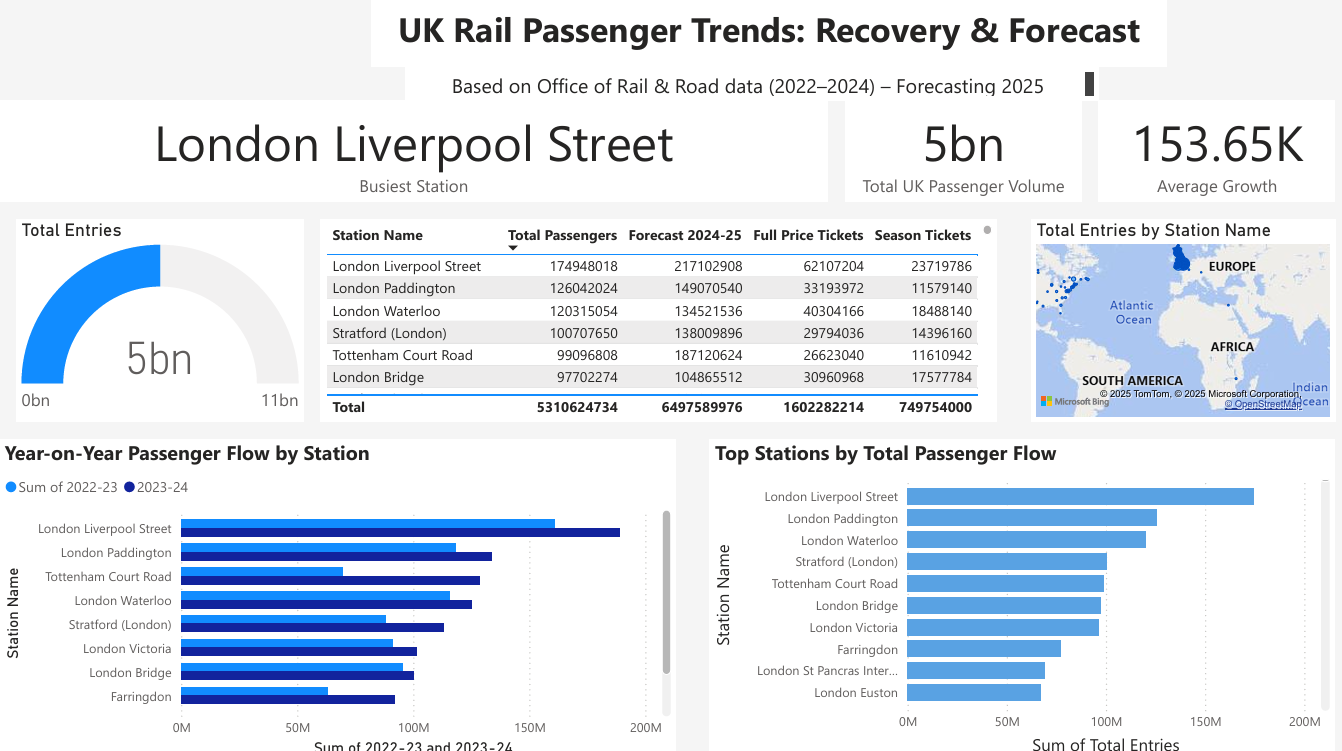

This screenshot's page, from the dashboard's own definition file:
{"tool":"powerbi","page":{"name":"Page 1","canvas":[1280,720],"ordinal":0},"visuals":[{"type":"clusteredBarChart","title":"Top Stations by Total Passenger Flow","fields":{"Category":["cleaned_passenger_flow.station_name"],"Y":["Sum(cleaned_passenger_flow.total_entries_exits)"]},"box":[672,416,592,304],"z":0},{"type":"clusteredBarChart","title":"Year-on-Year Passenger Flow by Station","fields":{"Category":["cleaned_passenger_flow.station_name"],"Y":["Sum(cleaned_passenger_flow.2022-23)","Sum(cleaned_passenger_flow.2023-24)"]},"box":[0,416,640,304],"z":1000},{"type":"textbox","box":[352,0,752,64],"z":2000},{"type":"card","fields":{"Values":["cleaned_passenger_flow.Busiest Station"]},"box":[0,96,784,96],"z":4000},{"type":"map","fields":{"Category":["cleaned_passenger_flow.station_name"],"Size":["Sum(cleaned_passenger_flow.total_entries_exits)"]},"box":[976,208,288,192],"z":5000},{"type":"tableEx","fields":{"Values":["cleaned_passenger_flow.station_name","Sum(cleaned_passenger_flow.total_entries_exits)","Sum(cleaned_passenger_flow.forecast_2024-25)","Sum(cleaned_passenger_flow.full_price_tickets)","Sum(cleaned_passenger_flow.season_tickets)"]},"box":[304,208,640,192],"z":6000},{"type":"gauge","fields":{"Y":["Sum(cleaned_passenger_flow.total_entries_exits)"]},"box":[16,208,272,192],"z":7000},{"type":"card","fields":{"Values":["Avg(cleaned_passenger_flow.growth_absolute)"]},"box":[1040,96,224,96],"z":8000},{"type":"textbox","box":[384,64,656,32],"z":9000},{"type":"card","fields":{"Values":["Sum(cleaned_passenger_flow.total_entries_exits)"]},"box":[800,96,224,96],"z":10000}]}

Visuals, with their boxes in screenshot pixels (x1, y1, x2, y2), scaled from the page's 1280x720 canvas onto the 1342x751 screenshot:
"Top Stations by Total Passenger Flow" clusteredBarChart: [left=705, top=434, right=1325, bottom=750]
"Year-on-Year Passenger Flow by Station" clusteredBarChart: [left=0, top=434, right=671, bottom=750]
textbox: [left=369, top=0, right=1157, bottom=67]
card - cleaned_passenger_flow.Busiest Station: [left=0, top=100, right=822, bottom=200]
map - cleaned_passenger_flow.station_name x Sum(cleaned_passenger_flow.total_entries_exits): [left=1023, top=217, right=1325, bottom=417]
tableEx - cleaned_passenger_flow.station_name x Sum(cleaned_passenger_flow.total_entries_exits): [left=319, top=217, right=990, bottom=417]
gauge - Sum(cleaned_passenger_flow.total_entries_exits): [left=17, top=217, right=302, bottom=417]
card - Avg(cleaned_passenger_flow.growth_absolute): [left=1090, top=100, right=1325, bottom=200]
textbox: [left=403, top=67, right=1090, bottom=100]
card - Sum(cleaned_passenger_flow.total_entries_exits): [left=839, top=100, right=1074, bottom=200]
